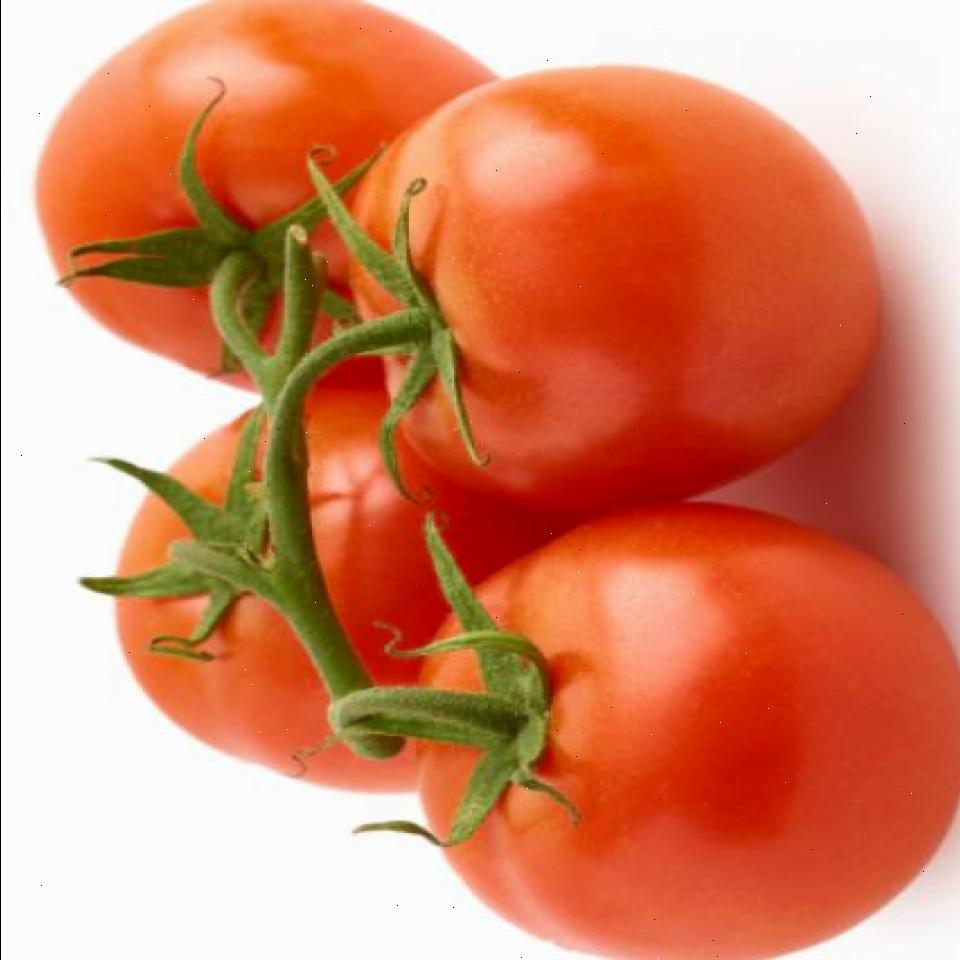Healthy: (383, 534, 960, 950), (337, 60, 859, 493), (29, 8, 406, 424), (97, 365, 465, 784)
